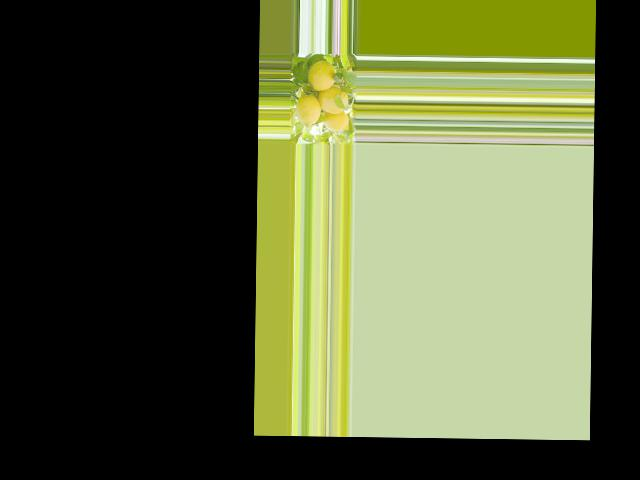lemon: (306, 59, 339, 91)
